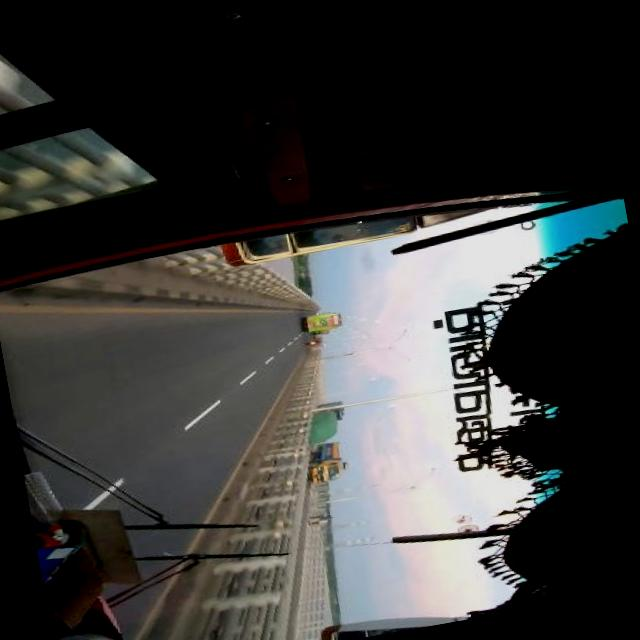bus: (303, 309, 341, 332)
motorcycle: (308, 338, 324, 344)
truck: (304, 438, 349, 484)
